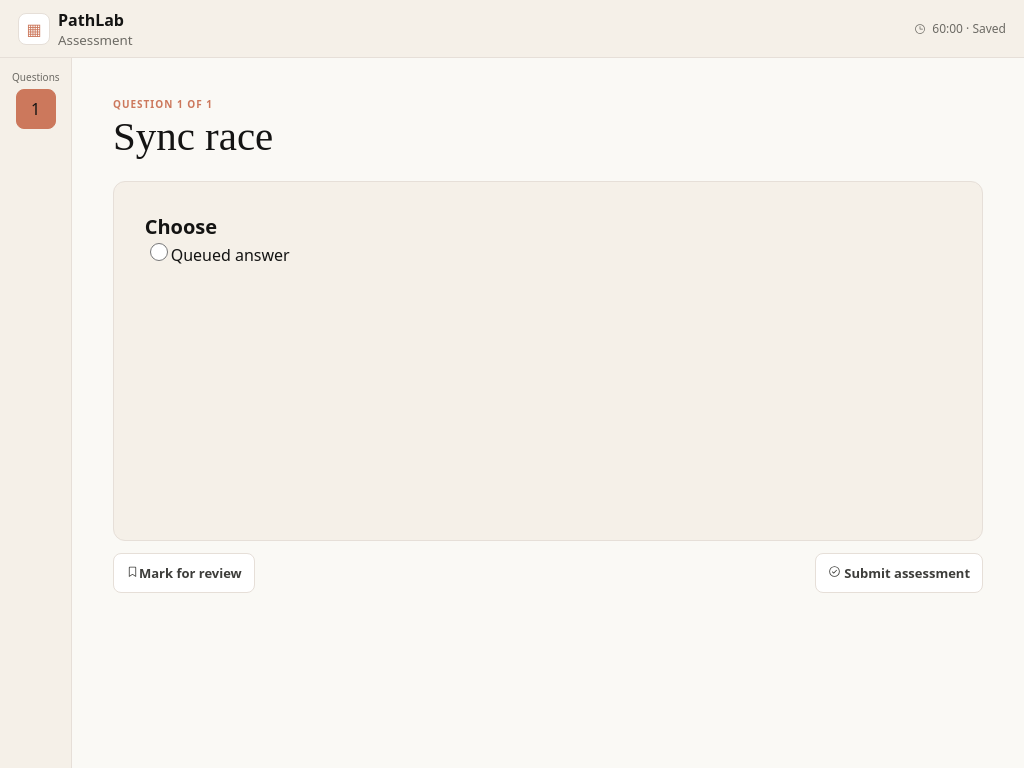
does not acknowledge a new answer from an older empty sync (offline=false)
Click the radio button labelled "Queued answer": (159,252) [150,243,168,261]
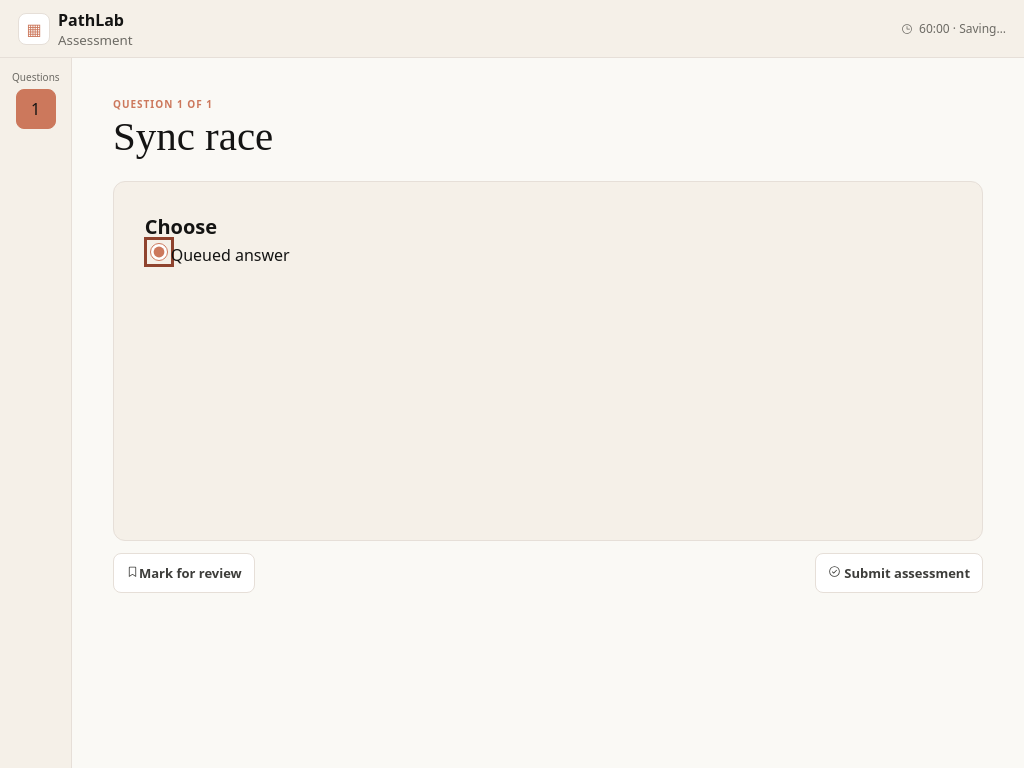
Now the text "60:00 · Saving…" is shown, box [919,20,1006,37]
